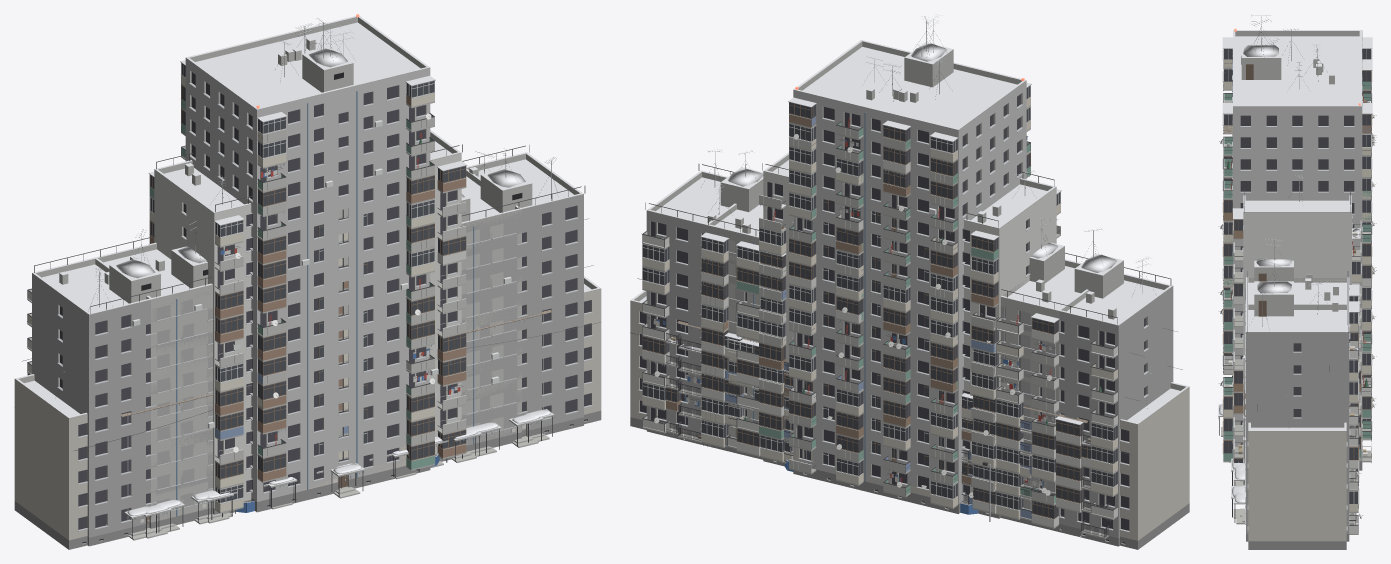
The model's file is panelka.glb.
3 renders of one model, left to right at view 1: azimuth 30°, elevation 25°; view 2: azimuth 150°, elevation 25°; view 3: azimuth 270°, elevation 25°, orthographic. The views are drawn at different scales.
Parts seen in each view (by area): view 1: t16_a, p9_4, p12_2, p9_3a, k5i_4, t16_b, k5_4b, p9_3b; view 2: t16_a, p9_4, p12_2, k5i_4, p9_3a, t16_b, p9_3b, k5_4b, p9_2s, k5i_3, k5_3p, k5_2b; view 3: t16_a, p9_4, k5i_4, p12_2, t16_b, p9_3a, p9_2s, p9_3b, k5_4b.
Boxes of the visible parts, x1=… form: t16_a: x1=180, y1=14, x2=435, y2=512; p9_4: x1=27, y1=145, x2=585, y2=546; p12_2: x1=148, y1=130, x2=467, y2=514; p9_3a: x1=95, y1=168, x2=521, y2=528; k5i_4: x1=14, y1=276, x2=601, y2=549; t16_b: x1=181, y1=18, x2=434, y2=497; k5_4b: x1=121, y1=310, x2=551, y2=536; p9_3b: x1=155, y1=226, x2=499, y2=516; t16_a: x1=788, y1=16, x2=1030, y2=513; p9_4: x1=642, y1=149, x2=1173, y2=546; p12_2: x1=759, y1=152, x2=1061, y2=518; k5i_4: x1=630, y1=290, x2=1189, y2=549; p9_3a: x1=700, y1=203, x2=1088, y2=531; t16_b: x1=789, y1=14, x2=1031, y2=508; p9_3b: x1=701, y1=222, x2=1059, y2=528; k5_4b: x1=677, y1=321, x2=1087, y2=537; p9_2s: x1=759, y1=251, x2=1026, y2=490; k5i_3: x1=724, y1=332, x2=1063, y2=520; k5_3p: x1=727, y1=338, x2=1033, y2=500; k5_2b: x1=784, y1=364, x2=972, y2=486; t16_a: x1=1218, y1=19, x2=1376, y2=470; p9_4: x1=1231, y1=261, x2=1362, y2=541; k5i_4: x1=1233, y1=395, x2=1360, y2=549; p12_2: x1=1229, y1=175, x2=1361, y2=484; t16_b: x1=1218, y1=14, x2=1376, y2=462; p9_3a: x1=1231, y1=238, x2=1359, y2=485; p9_2s: x1=1232, y1=278, x2=1359, y2=465; p9_3b: x1=1243, y1=258, x2=1359, y2=508; k5_4b: x1=1233, y1=377, x2=1355, y2=523.
Bounding box in the file's own units: 64.54 × 53.45 × 18.42.
